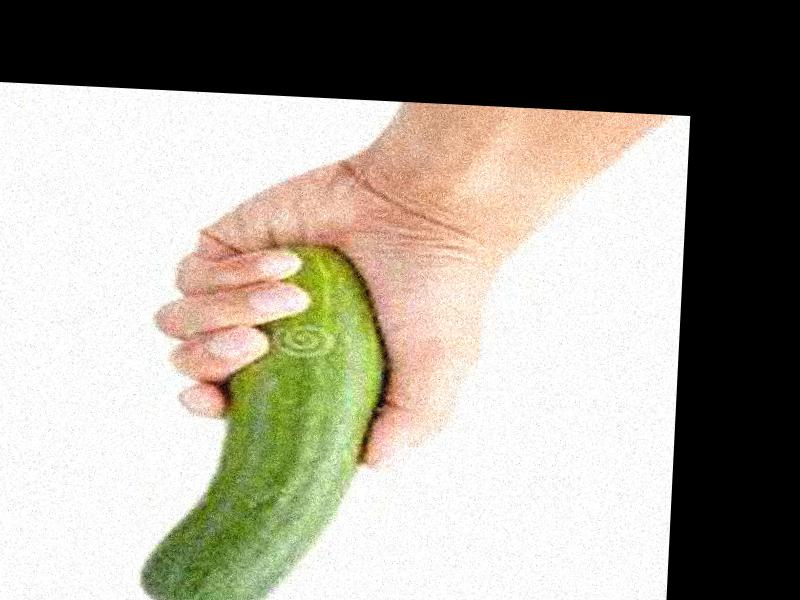Cucumber: (138, 238, 384, 600)
